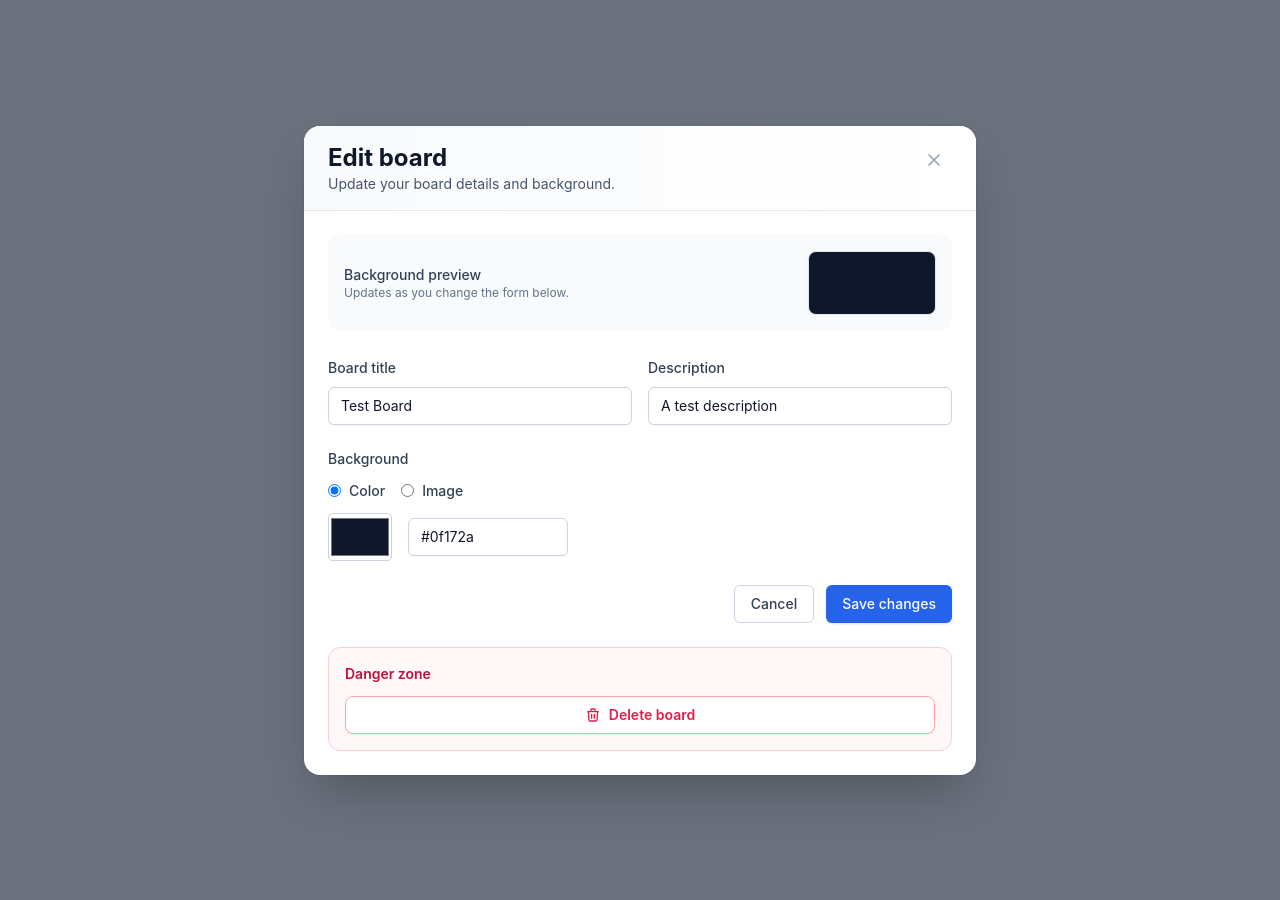
Test: BoardEditModal › allows switching to image background type
This screenshot has width=1280, height=900.
Click the radio button labelled "Image" at (408, 490), box [401,484,414,497]
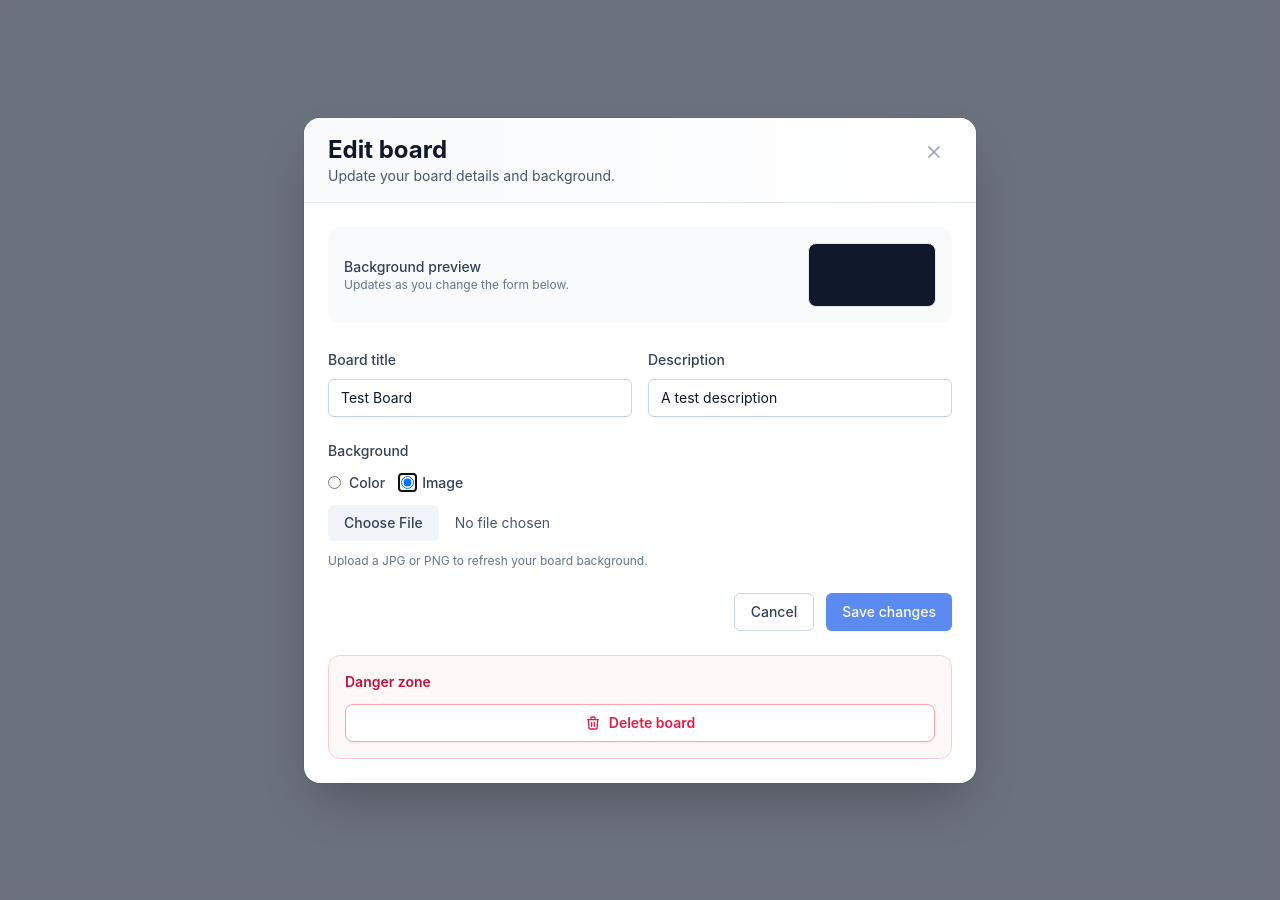
Expected: the text "Upload a JPG or PNG to refresh your board background." is shown, [328,552,648,568]
